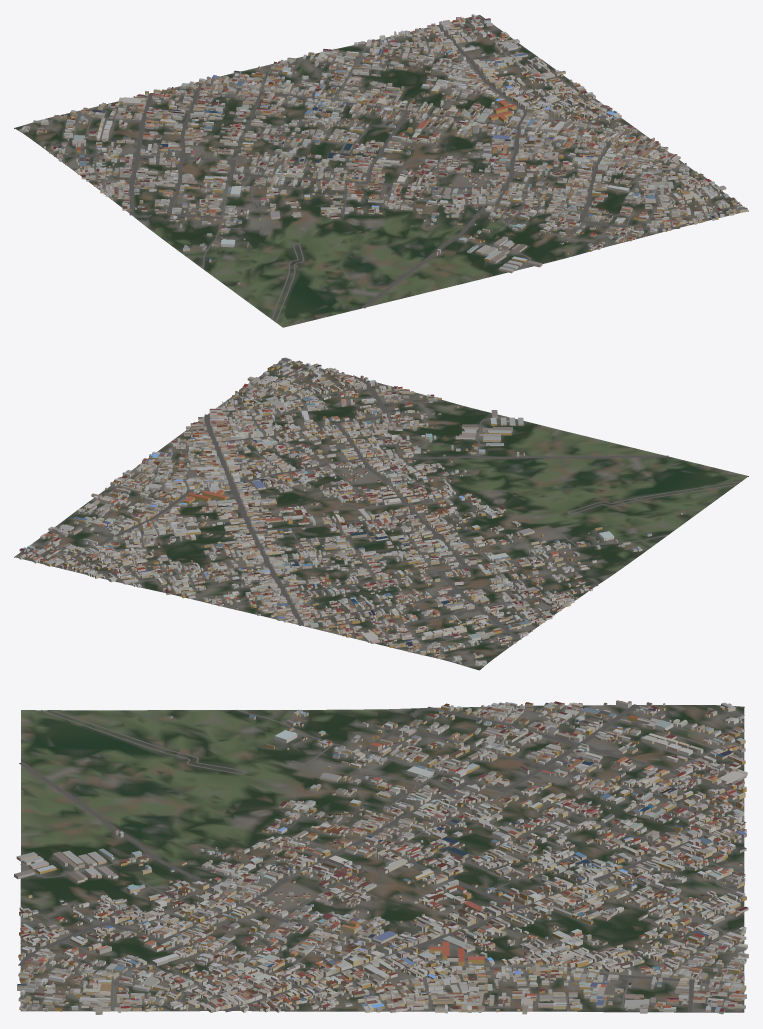
3 views of the same model, one above another, from view 1: azimuth 30°, elevation 25°; view 2: azimuth 150°, elevation 25°; view 3: azimuth 270°, elevation 25° (orthographic). The views are drawn at different scales.
Parts seen in each view (by area): view 1: ground, buildings, roads; view 2: ground, buildings, roads; view 3: ground, buildings, roads.
Part boxes in pixels (x1,y1,x2,y2): ground: [14, 15, 748, 327]; buildings: [19, 14, 747, 284]; roads: [27, 25, 738, 322]; ground: [14, 361, 748, 670]; buildings: [19, 357, 682, 665]; roads: [33, 362, 741, 666]; ground: [20, 705, 744, 1012]; buildings: [14, 700, 748, 1014]; roads: [18, 704, 746, 1012].
Size of the model in its own units: 1422 by 26.94 by 1423.
